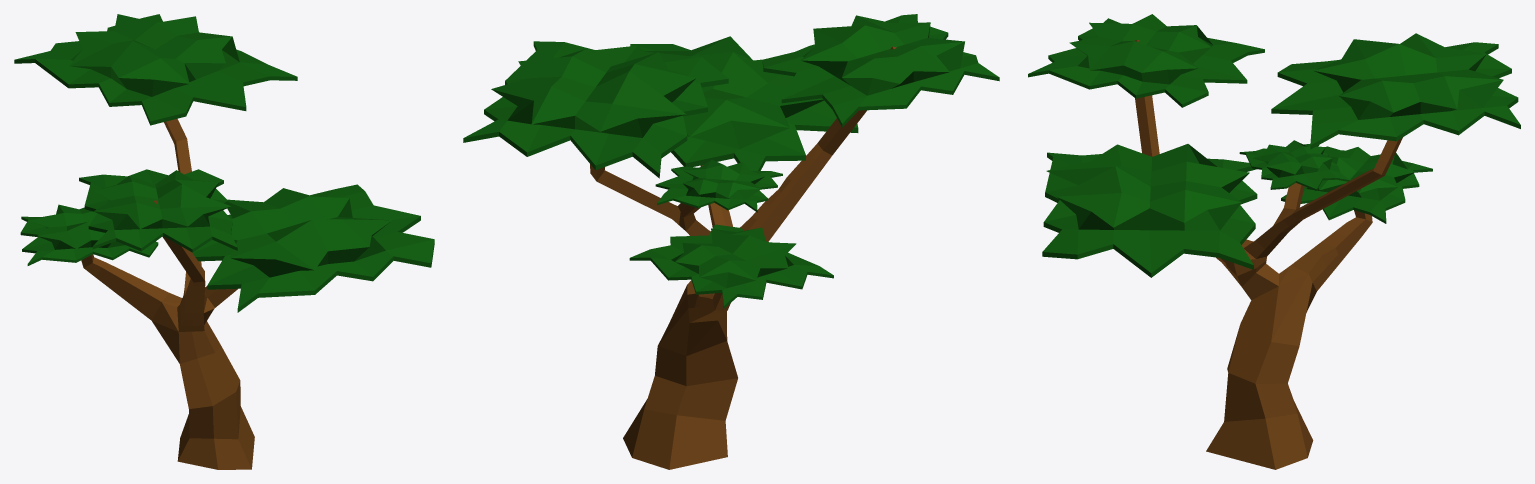
File: Acacia_Tree.FBX
3 views of the same model, side by side, from view 1: azimuth 30°, elevation 25°; view 2: azimuth 150°, elevation 25°; view 3: azimuth 270°, elevation 25° (orthographic). The views are drawn at different scales.
Parts seen in each view (by area): view 1: Acacia_Tree; view 2: Acacia_Tree; view 3: Acacia_Tree.
Boxes of the visible parts, x1=… form: Acacia_Tree: x1=14, y1=14, x2=434, y2=469; Acacia_Tree: x1=463, y1=14, x2=999, y2=469; Acacia_Tree: x1=1028, y1=14, x2=1520, y2=469.
Size of the model in its own units: 674 by 682 by 776.
